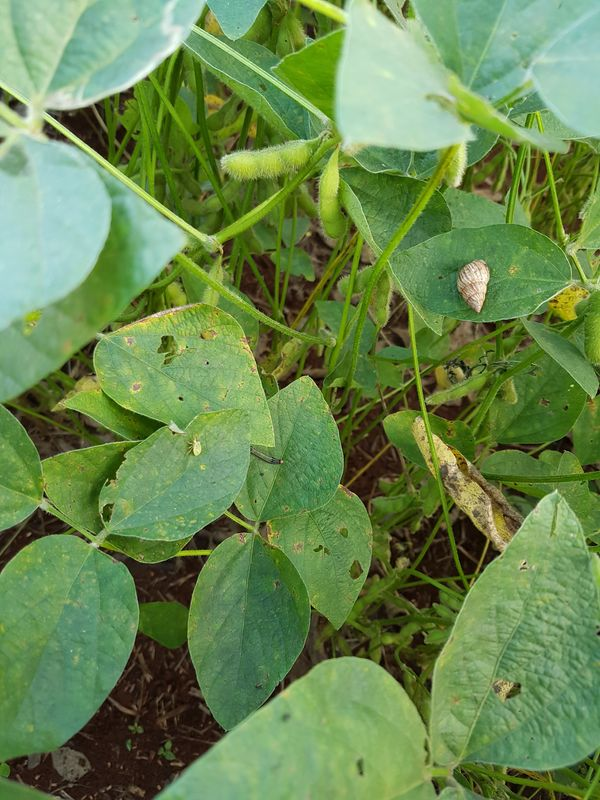Euschistus_heros_ninfa: (182, 433, 208, 462)
Gastropoda: (449, 255, 502, 318)
Spodoptera_albula: (244, 439, 290, 474)
